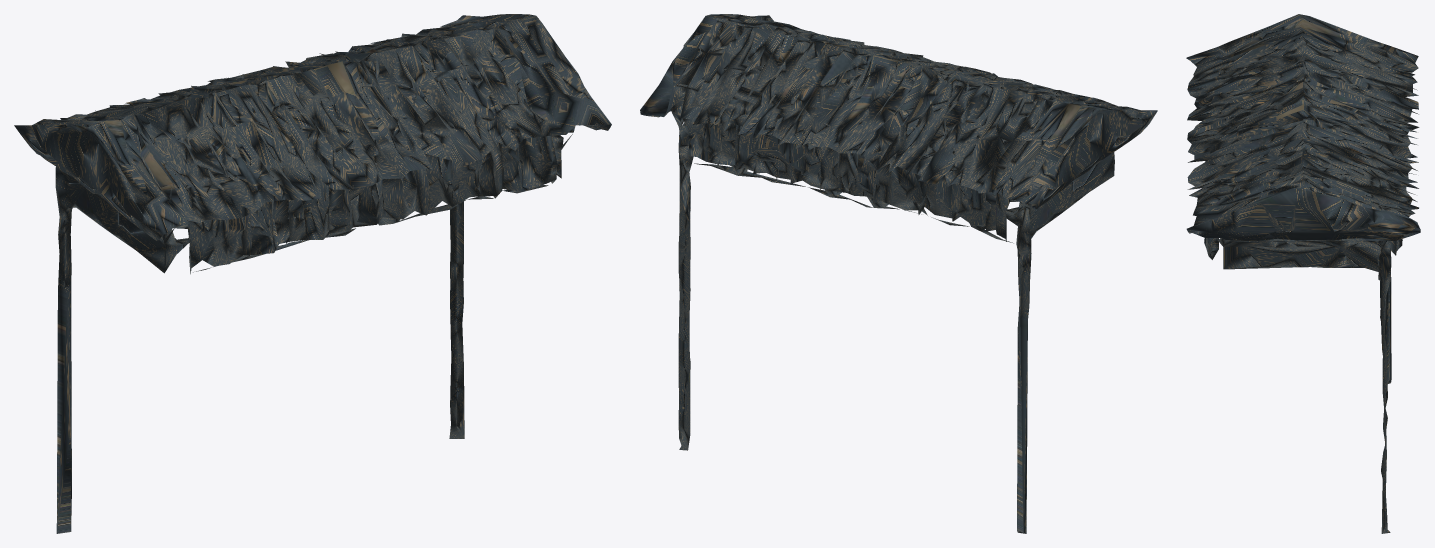
The model's file is aura_hoops_3d_blacktopCorrugatedRoof.20a9bbf7.glb.
3 renders of one model, left to right at view 1: azimuth 30°, elevation 25°; view 2: azimuth 150°, elevation 25°; view 3: azimuth 270°, elevation 25°, orthographic. The views are drawn at different scales.
Bounding box in the file's own units: 1.9 × 1.84 × 1.09.
1 material, 1 textured.
